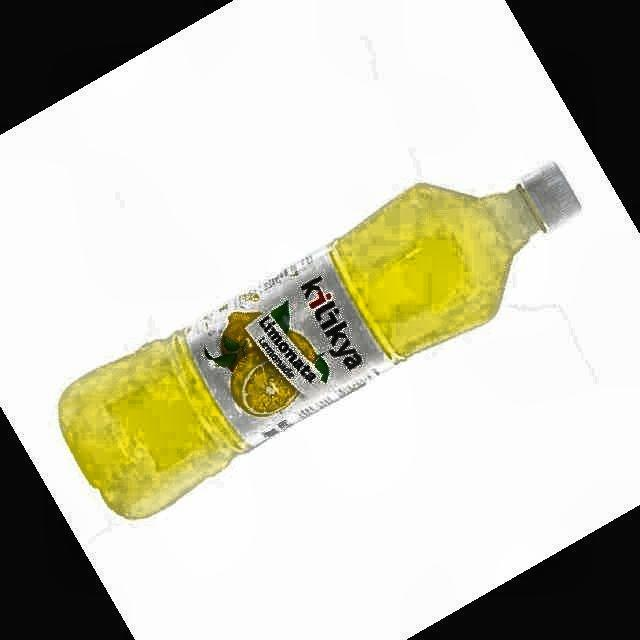plastic: (59, 164, 580, 518)
